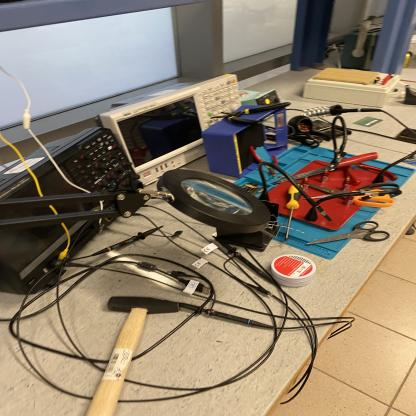Hammer: (86, 294, 183, 416)
Knife: (271, 151, 380, 184)
scissors: (303, 183, 395, 209), (306, 220, 390, 245)
